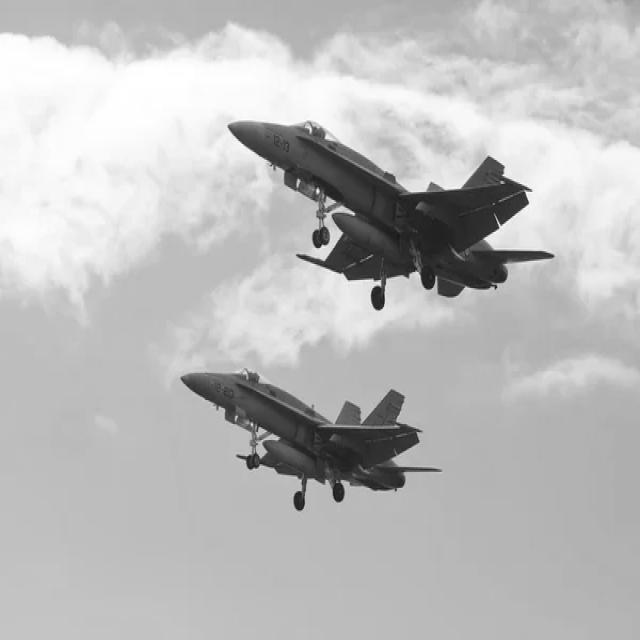Aircraft: (221, 98, 556, 319), (177, 353, 447, 529)
